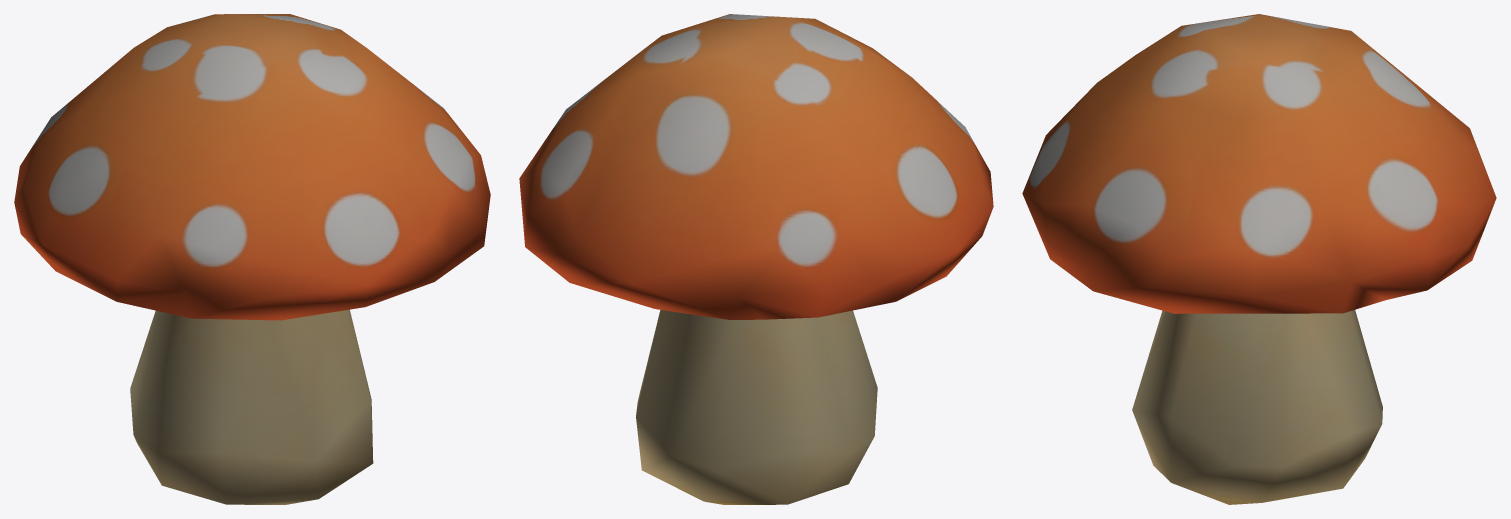
File: mushroom.glb
The picture shows the model from 3 angles, left to right: view 1: azimuth 30°, elevation 25°; view 2: azimuth 150°, elevation 25°; view 3: azimuth 270°, elevation 25°; orthographic projection.
Parts seen in each view (by area): view 1: mesh; view 2: mesh; view 3: mesh.
Boxes of the visible parts, x1=… form: mesh: x1=14, y1=14, x2=490, y2=504; mesh: x1=519, y1=14, x2=993, y2=504; mesh: x1=1022, y1=14, x2=1496, y2=504.
Bounding box in the file's own units: 1.92 × 1.98 × 1.93.
1 material, 1 textured.
